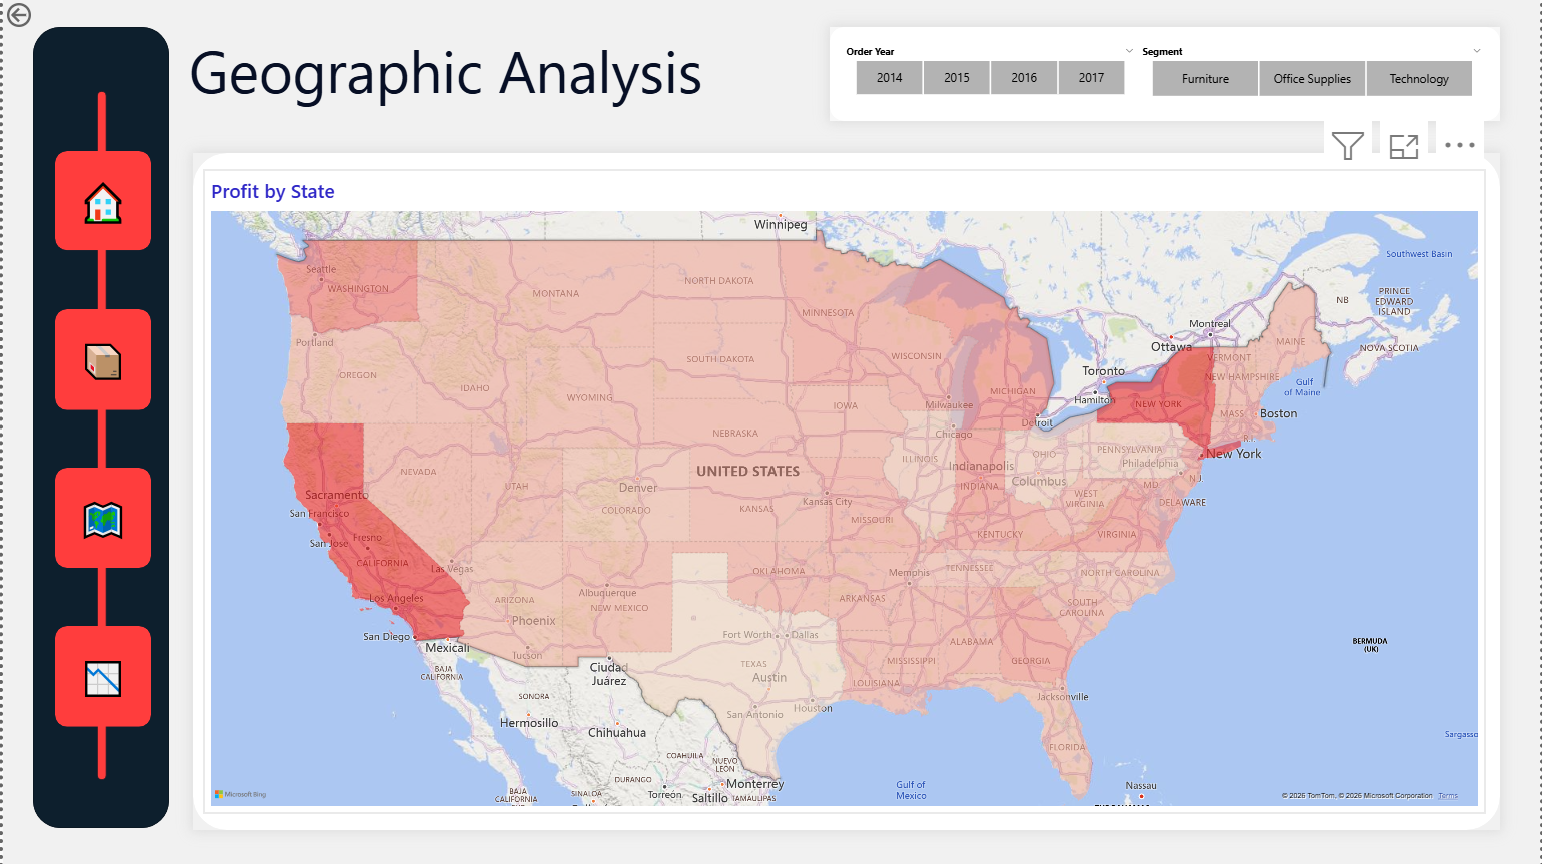

Layout of this report page (visuals, bound fields, positions):
{"tool":"powerbi","page":{"name":"Geographic","canvas":[1920,1080],"ordinal":2},"visuals":[{"type":"shape","box":[1032.5,35,837.5,117.5],"z":0},{"type":"textbox","box":[227.5,35,710,135],"z":1000},{"type":"slicer","fields":{"Values":["superstore_full.Order Year"]},"box":[1039.9,53.3,384.4,73.3],"z":2000},{"type":"slicer","fields":{"Values":["superstore_full.category"]},"box":[1411,53.7,448.9,75.6],"z":3000},{"type":"shape","box":[237.5,192.5,1632.5,845],"z":4000},{"type":"filledMap","title":"Profit by State","fields":{"Category":["superstore_full.state"]},"box":[250,212.5,1602.5,805],"z":5000},{"type":"actionButton","box":[0,0,100,40],"z":6000},{"type":"shape","box":[38.5,35,170,1000],"z":7000},{"type":"shape","box":[118,114,12,860],"z":8000},{"type":"actionButton","box":[64.5,190,120,124],"z":9000},{"type":"actionButton","box":[64.5,386.3,120,126],"z":10000},{"type":"actionButton","box":[64.5,584.7,120,125],"z":11000},{"type":"actionButton","box":[64.5,782,120,126],"z":12000}]}

Visuals, with their boxes on the page's 1920x1080 design canvas (x1, y1, x2, y2). These are canvas units, not pixel positions in the 1542x864 screenshot, which may show the page scaled, cropped or inside an application window:
shape: (1032, 35, 1870, 152)
textbox: (228, 35, 938, 170)
slicer - superstore_full.Order Year: (1040, 53, 1424, 127)
slicer - superstore_full.category: (1411, 54, 1860, 129)
shape: (238, 192, 1870, 1038)
"Profit by State" filledMap: (250, 212, 1852, 1018)
actionButton: (0, 0, 100, 40)
shape: (38, 35, 208, 1035)
shape: (118, 114, 130, 974)
actionButton: (64, 190, 184, 314)
actionButton: (64, 386, 184, 512)
actionButton: (64, 585, 184, 710)
actionButton: (64, 782, 184, 908)
